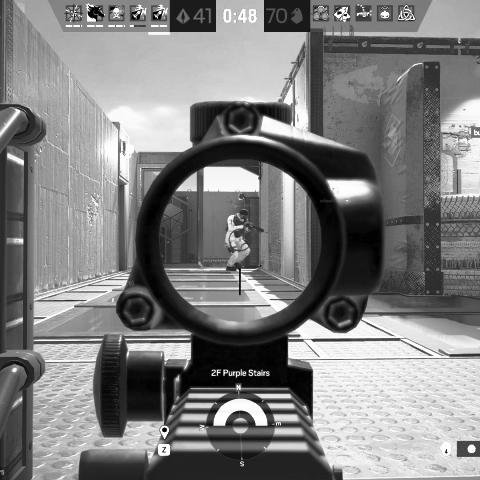Character: (224, 208, 265, 272)
Friend_label: (320, 186, 351, 202), (231, 192, 254, 208)
Head: (238, 209, 248, 219)
